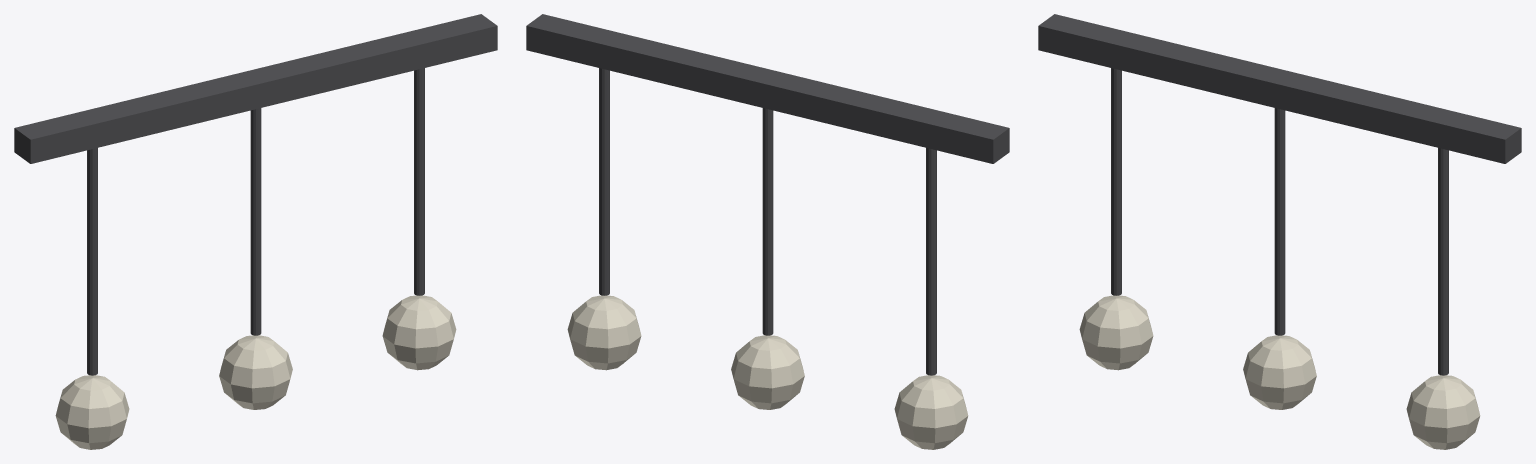
The model's file is ilu_pendente_ilha.glb.
3 views of the same model, side by side, from view 1: azimuth 30°, elevation 25°; view 2: azimuth 150°, elevation 25°; view 3: azimuth 330°, elevation 25° (orthographic).
Parts seen in each view (by area): view 1: ILU_Pendente_Ilha_v01; view 2: ILU_Pendente_Ilha_v01; view 3: ILU_Pendente_Ilha_v01.
Part boxes in pixels (x1,y1,x2,y2): ILU_Pendente_Ilha_v01: (14, 14, 497, 449); ILU_Pendente_Ilha_v01: (526, 14, 1009, 449); ILU_Pendente_Ilha_v01: (1038, 14, 1521, 449).
Bounding box in the file's own units: 1 × 0.675 × 0.14.
